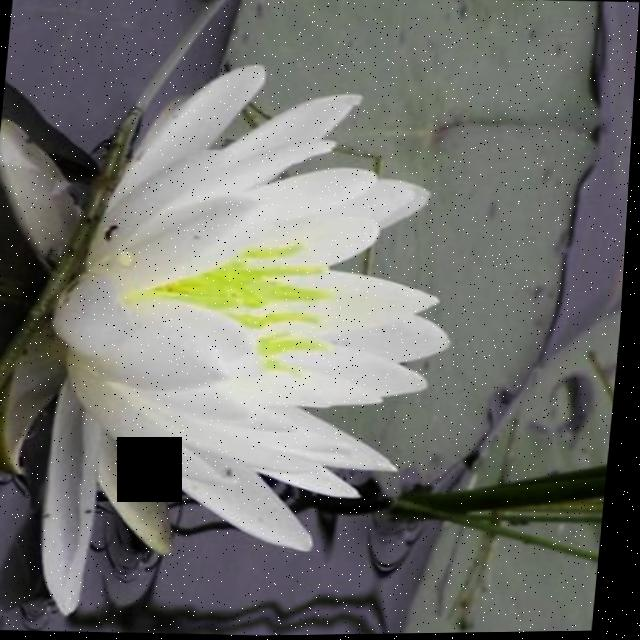water-lily: (0, 64, 510, 600)
